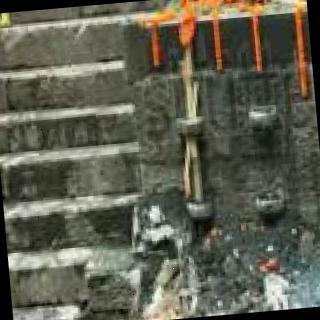fire: (227, 0, 307, 9)
